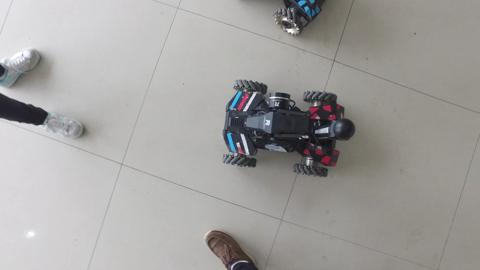chariot: (214, 77, 361, 182)
